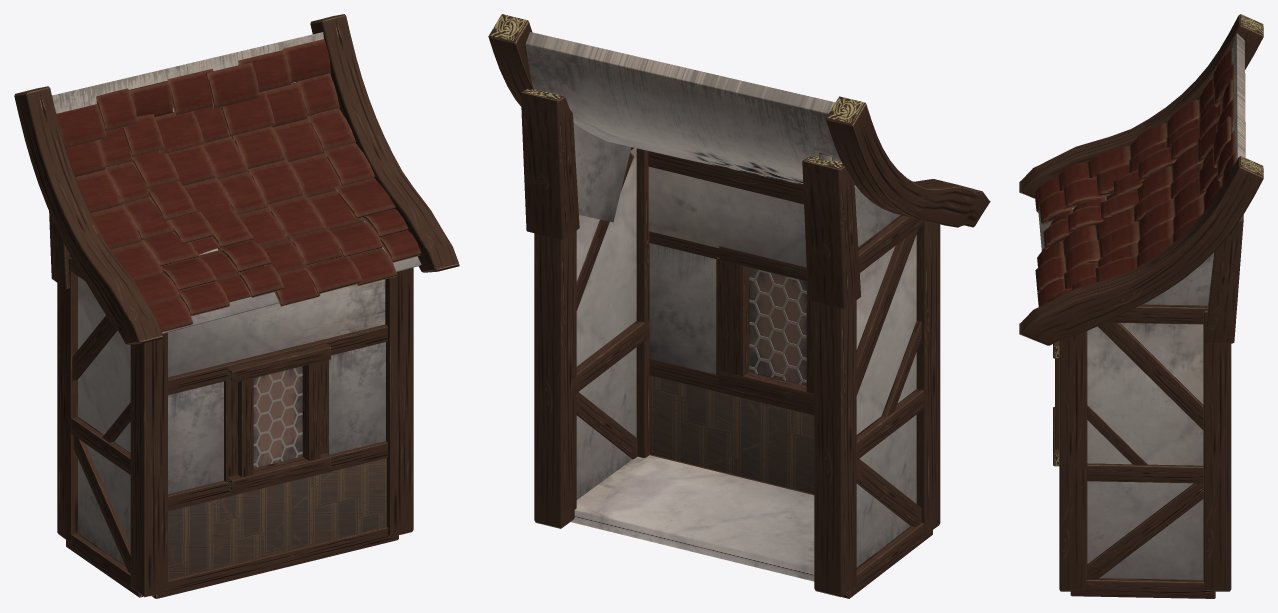
The model's file is Side_house_Piece.fbx.
3 renders of one model, left to right at view 1: azimuth 30°, elevation 25°; view 2: azimuth 150°, elevation 25°; view 3: azimuth 270°, elevation 25°, orthographic. The views are drawn at different scales.
Visible parts, largest first — view 1: Side_house_Piece; view 2: Side_house_Piece; view 3: Side_house_Piece.
Boxes of the visible parts, left/top/right/bottom form: Side_house_Piece: left=14, top=14, right=459, bottom=598; Side_house_Piece: left=488, top=14, right=990, bottom=598; Side_house_Piece: left=1019, top=14, right=1263, bottom=598.
Bounding box in the file's own units: 333 × 446 × 223.
